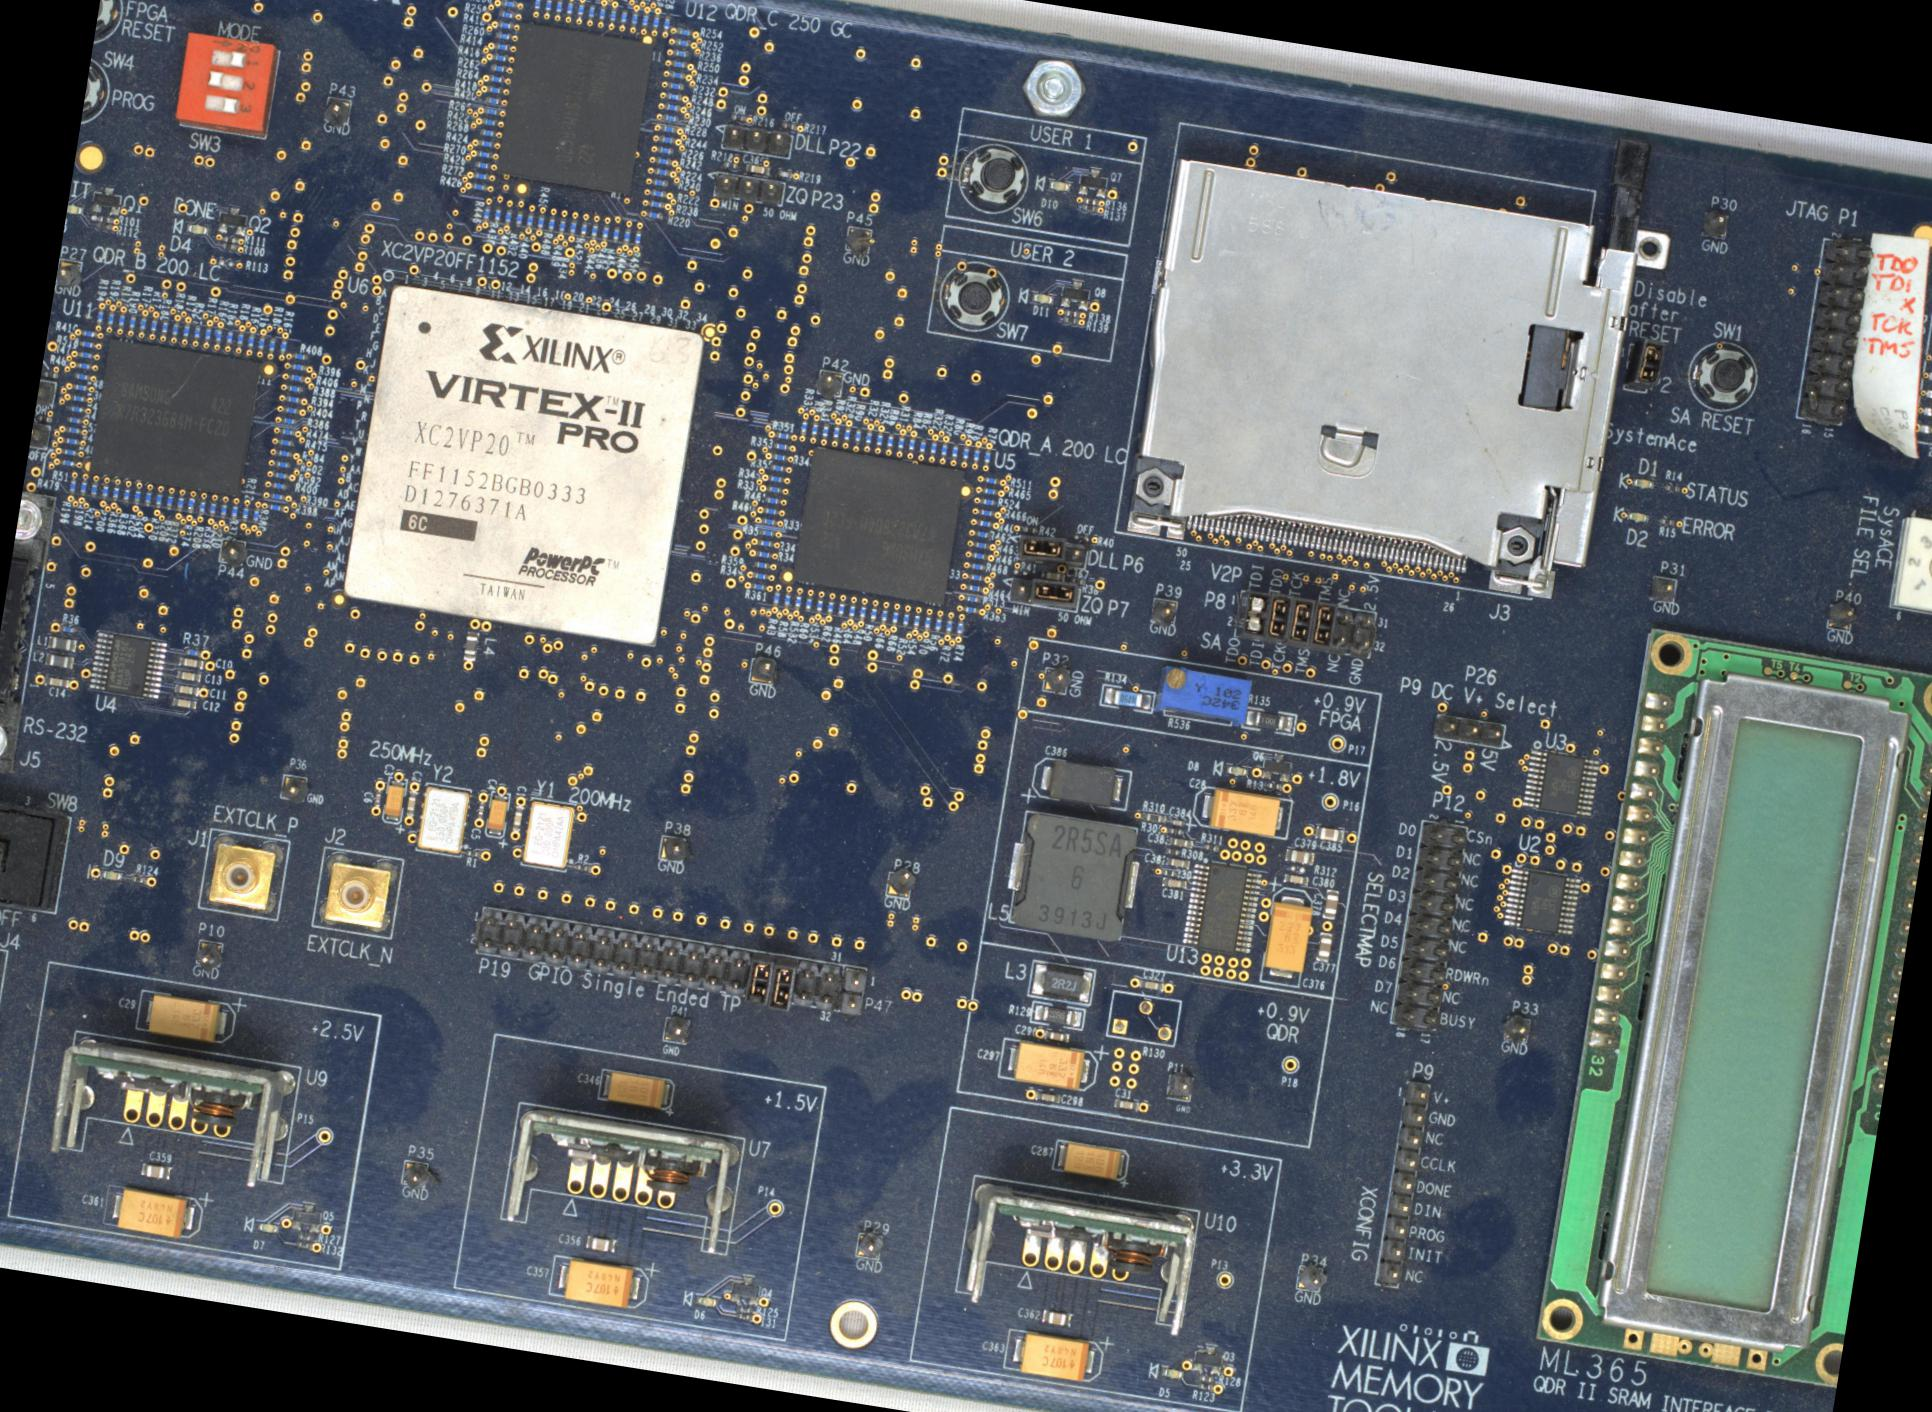Button: (951, 137, 1033, 221), (931, 254, 1015, 336), (1680, 336, 1762, 417), (79, 56, 115, 131), (91, 0, 127, 51)
Capacitor: (1039, 1307, 1071, 1328), (1312, 930, 1332, 963), (583, 1233, 615, 1253), (1320, 887, 1338, 920), (1312, 825, 1344, 843), (1282, 846, 1314, 864), (139, 1161, 169, 1179), (42, 674, 67, 689), (1044, 1028, 1069, 1043), (1111, 1097, 1137, 1112), (1033, 1089, 1059, 1104), (1281, 872, 1308, 885), (169, 696, 196, 710), (403, 788, 417, 815), (1137, 978, 1164, 992), (177, 656, 202, 669), (172, 683, 198, 696), (744, 162, 769, 176), (1159, 876, 1186, 888), (510, 803, 522, 830), (174, 671, 199, 683), (1039, 570, 1063, 582), (1165, 857, 1189, 869), (1170, 836, 1192, 848), (475, 800, 484, 818), (372, 789, 381, 806), (1167, 818, 1183, 825)
Clock: (519, 795, 576, 872), (414, 782, 471, 857)
Connector: (1107, 117, 1644, 609), (474, 905, 750, 998), (1387, 818, 1467, 1032), (0, 491, 57, 776), (1792, 236, 1869, 426), (1372, 1079, 1429, 1289), (309, 843, 405, 941), (195, 827, 291, 921), (790, 957, 865, 1017), (1105, 992, 1179, 1046), (1909, 308, 1930, 455), (720, 120, 793, 161), (1431, 711, 1506, 747), (712, 170, 784, 206), (1329, 605, 1375, 659), (397, 1157, 433, 1191), (1824, 597, 1858, 630), (1041, 662, 1072, 696), (883, 866, 915, 899), (841, 224, 873, 257), (811, 368, 843, 401), (216, 537, 247, 569), (745, 656, 778, 686), (1164, 1068, 1194, 1101), (193, 938, 223, 971), (1294, 1262, 1327, 1292), (277, 773, 309, 803), (1500, 1011, 1530, 1043), (1698, 209, 1728, 240), (321, 95, 352, 125), (54, 258, 84, 290), (660, 1014, 690, 1044), (1147, 596, 1176, 627), (1645, 575, 1675, 603), (853, 1230, 883, 1259), (657, 834, 687, 861), (1062, 542, 1087, 569), (1008, 578, 1033, 605), (28, 422, 51, 450), (36, 378, 58, 405)
Display: (1528, 618, 1930, 1389)
Electrolytic Capacitor: (132, 987, 240, 1047), (996, 1035, 1099, 1094), (1000, 1326, 1104, 1385), (546, 1253, 651, 1310), (102, 1182, 204, 1241), (1189, 783, 1293, 840), (1257, 884, 1314, 986), (1027, 755, 1131, 810), (1050, 1136, 1129, 1181), (597, 1067, 675, 1112), (483, 789, 510, 839), (379, 776, 406, 825)
IC: (339, 284, 705, 648), (85, 338, 259, 497), (792, 447, 963, 605), (498, 21, 654, 192), (1180, 857, 1261, 956), (85, 627, 166, 701), (1503, 864, 1581, 936), (1519, 747, 1599, 818)
Inductor: (1000, 809, 1143, 942), (43, 651, 75, 671), (460, 629, 478, 660), (46, 635, 76, 653)
Jumper: (1620, 336, 1665, 395), (1026, 576, 1080, 612), (1233, 588, 1269, 641), (766, 951, 796, 1011), (1015, 530, 1065, 566), (744, 950, 774, 1007), (1285, 596, 1315, 650), (1263, 593, 1293, 645), (1308, 600, 1336, 653)
Led: (1044, 177, 1071, 194), (1222, 762, 1248, 777), (183, 221, 208, 236), (99, 867, 123, 882), (1624, 510, 1650, 524), (694, 1293, 718, 1307), (1158, 1367, 1182, 1379), (1030, 293, 1054, 305), (1629, 477, 1653, 489), (256, 1221, 277, 1233), (66, 204, 84, 215)
Pads: (216, 257, 234, 269), (1288, 863, 1305, 875), (1071, 531, 1089, 542), (1011, 569, 1027, 578)
Potentiometer: (1153, 663, 1251, 726), (1885, 515, 1930, 620)
Resistor Network: (1024, 957, 1095, 1005), (1027, 999, 1086, 1031), (1096, 683, 1155, 713), (1242, 705, 1296, 735), (1140, 810, 1165, 824), (1660, 482, 1678, 494), (819, 422, 829, 440), (244, 332, 255, 350), (813, 596, 823, 614), (931, 615, 942, 633), (867, 605, 877, 623), (660, 14, 670, 32), (627, 9, 637, 27), (666, 80, 684, 90), (567, 218, 577, 236), (577, 219, 588, 237), (631, 228, 642, 246), (480, 204, 490, 222), (618, 8, 627, 27), (639, 11, 648, 30), (564, 0, 574, 17), (661, 113, 678, 123), (652, 167, 669, 177), (645, 209, 661, 219), (798, 419, 807, 437), (831, 423, 840, 441), (840, 425, 849, 443), (169, 320, 178, 338), (234, 330, 243, 348), (255, 333, 264, 351), (277, 336, 286, 354), (267, 336, 276, 354), (289, 353, 307, 362), (772, 431, 790, 440), (288, 362, 306, 371), (769, 452, 787, 461), (763, 483, 781, 492), (274, 438, 292, 447), (751, 560, 769, 569), (748, 582, 766, 591), (240, 504, 249, 522), (163, 492, 172, 510), (184, 497, 193, 515), (207, 500, 216, 518), (249, 507, 258, 525), (889, 608, 898, 626), (121, 486, 130, 504), (130, 488, 139, 506), (793, 593, 802, 611), (877, 606, 886, 624), (802, 594, 811, 612), (846, 602, 855, 620), (597, 5, 606, 23), (649, 14, 658, 32), (778, 120, 796, 129), (658, 123, 676, 132), (477, 128, 495, 137), (492, 204, 501, 222), (535, 212, 544, 230), (556, 216, 565, 234), (513, 209, 522, 227), (546, 215, 555, 233), (502, 207, 511, 225), (600, 222, 609, 240), (610, 224, 619, 242), (621, 227, 630, 245), (1060, 315, 1078, 324), (885, 432, 894, 449), (862, 428, 871, 444), (873, 431, 882, 447), (808, 420, 817, 437), (927, 440, 936, 456), (960, 444, 969, 461), (105, 309, 114, 326), (192, 323, 201, 339), (148, 317, 157, 333), (201, 326, 210, 342), (115, 312, 124, 329), (223, 329, 232, 345), (79, 329, 96, 338), (772, 441, 789, 450), (981, 476, 997, 485), (768, 464, 784, 473), (978, 497, 994, 506), (976, 507, 993, 516), (282, 405, 298, 414), (763, 495, 780, 504), (69, 393, 85, 402), (277, 426, 294, 435), (762, 507, 778, 516), (67, 404, 84, 413), (759, 516, 775, 525), (274, 449, 291, 458), (1068, 576, 1084, 585), (757, 528, 774, 537), (967, 561, 984, 570), (754, 549, 771, 558), (964, 582, 981, 591), (60, 447, 76, 456), (270, 482, 286, 491), (963, 594, 979, 603), (58, 458, 75, 467), (267, 492, 283, 501), (196, 498, 205, 515), (153, 491, 162, 507), (825, 599, 834, 615), (921, 614, 930, 630), (835, 600, 844, 617), (109, 485, 118, 501), (771, 590, 780, 606), (60, 626, 76, 635), (183, 648, 199, 657), (1167, 825, 1183, 834), (573, 863, 589, 872), (463, 848, 480, 857), (129, 873, 145, 882), (1197, 1374, 1213, 1383), (295, 1232, 312, 1241), (585, 3, 594, 20), (609, 8, 618, 24), (735, 1304, 751, 1313), (673, 27, 690, 36), (672, 36, 688, 45), (490, 53, 507, 62), (664, 92, 681, 101), (663, 102, 679, 111), (729, 113, 745, 122), (1081, 197, 1098, 206), (657, 135, 673, 144), (480, 117, 496, 126), (475, 138, 492, 147), (651, 177, 667, 186), (648, 188, 664, 197), (471, 171, 487, 180), (646, 198, 663, 207), (1062, 308, 1078, 317), (1657, 516, 1674, 525), (541, 0, 552, 14), (906, 435, 915, 450), (972, 446, 979, 464), (159, 320, 168, 335), (180, 323, 189, 338), (76, 350, 91, 359), (73, 371, 88, 380), (42, 369, 57, 378), (1021, 524, 1036, 533), (972, 540, 987, 549), (970, 551, 985, 560), (63, 437, 78, 446), (99, 482, 106, 500), (175, 494, 183, 512), (900, 611, 909, 626), (1164, 846, 1179, 855), (1161, 867, 1176, 876), (574, 2, 583, 17), (553, 0, 562, 15), (1197, 1382, 1212, 1391), (733, 1313, 751, 1320), (498, 0, 516, 8), (670, 59, 685, 68), (669, 69, 684, 78), (486, 86, 501, 95), (481, 107, 499, 114), (657, 146, 672, 155), (775, 170, 790, 179), (474, 161, 489, 170), (471, 182, 486, 191), (589, 221, 597, 239), (96, 215, 111, 224), (94, 222, 112, 230), (918, 437, 925, 453), (853, 428, 861, 444), (939, 441, 946, 458), (96, 308, 103, 324), (127, 314, 135, 330), (138, 315, 145, 332), (213, 327, 220, 344), (951, 444, 958, 461), (78, 341, 94, 348), (286, 374, 303, 381), (981, 486, 997, 494), (285, 384, 301, 392), (283, 395, 300, 402), (766, 474, 783, 482), (70, 383, 87, 390), (280, 417, 297, 425), (64, 416, 81, 423), (63, 426, 79, 434), (273, 461, 289, 468), (756, 539, 772, 546), (271, 471, 288, 479), (750, 572, 766, 579), (961, 606, 978, 614), (265, 503, 282, 510), (78, 479, 85, 495), (88, 480, 96, 497), (229, 503, 237, 519), (67, 477, 75, 494), (142, 489, 150, 506), (219, 503, 226, 519), (912, 612, 919, 629), (858, 603, 865, 620), (943, 617, 951, 633), (955, 620, 963, 636), (294, 1241, 310, 1248), (672, 48, 688, 56), (493, 32, 510, 39), (492, 42, 508, 50), (489, 65, 505, 72), (487, 75, 504, 83), (483, 96, 499, 104), (1080, 204, 1096, 212), (654, 156, 670, 164), (474, 150, 490, 158), (523, 212, 531, 228), (219, 242, 235, 249), (895, 435, 903, 450), (982, 449, 990, 464), (75, 362, 90, 369), (976, 519, 991, 527), (973, 530, 988, 537), (36, 414, 51, 422), (967, 573, 982, 581), (781, 593, 789, 608), (1266, 782, 1281, 789), (498, 11, 513, 18), (496, 21, 511, 29), (721, 161, 736, 168), (220, 236, 235, 243), (531, 0, 541, 11)
Switch: (171, 29, 280, 138), (0, 798, 75, 918)
Test Point: (72, 137, 111, 179), (1317, 789, 1342, 813), (1324, 731, 1347, 755), (1278, 1053, 1300, 1074), (763, 1196, 784, 1218), (1212, 1268, 1234, 1289), (313, 1124, 333, 1145)
Transistor: (1074, 164, 1108, 198), (1057, 276, 1090, 311), (288, 1199, 321, 1232), (214, 203, 247, 236), (87, 185, 121, 216), (1191, 1341, 1222, 1374), (1260, 750, 1291, 782), (729, 1274, 759, 1305)
Unknown Unlabeled: (46, 1028, 303, 1191), (951, 1173, 1200, 1337), (496, 1100, 745, 1256)
